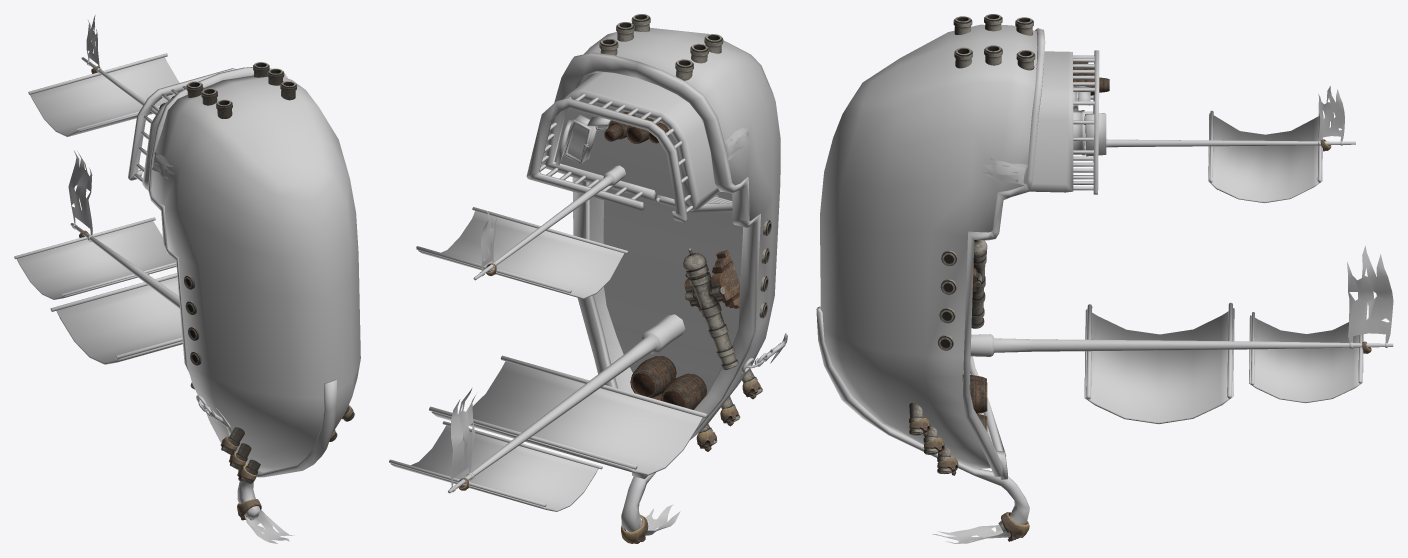
File: stylized_ship(new).fbx
3 renders of one model, left to right at view 1: azimuth 30°, elevation 25°; view 2: azimuth 150°, elevation 25°; view 3: azimuth 270°, elevation 25°, orthographic. The views are drawn at different scales.
Visible parts, largest first — view 1: ship, big_flags, cannon2, flags, ship.001, Skull; view 2: ship, big_flags, ship.001, cannon1, barrels, flags, cannon2, treasure, Skull, wood_stair; view 3: ship, big_flags, flags, cannon2, ship.001, treasure, Skull, cannon1, barrels.
Part boxes in pixels (box(x1,y1,x2,y2)): ship: box(70, 57, 360, 520); big_flags: box(16, 57, 182, 364); cannon2: box(184, 62, 354, 483); flags: box(68, 15, 294, 543); ship.001: box(14, 53, 182, 359); Skull: box(79, 66, 353, 520); ship: box(448, 27, 787, 531); big_flags: box(390, 211, 702, 511); ship.001: box(389, 207, 707, 506); cannon1: box(683, 248, 740, 369); barrels: box(604, 112, 706, 409); flags: box(450, 125, 750, 535); cannon2: box(599, 14, 771, 445); treasure: box(555, 114, 611, 165); Skull: box(458, 263, 760, 543); wood_stair: box(655, 195, 732, 212); ship: box(816, 24, 1393, 532); big_flags: box(1084, 113, 1363, 424); flags: box(932, 86, 1393, 543); cannon2: box(909, 14, 1035, 473); ship.001: box(1086, 110, 1362, 399); treasure: box(1073, 86, 1106, 156); Skull: box(909, 139, 1371, 541); cannon1: box(971, 240, 987, 328); barrels: box(962, 62, 1109, 431).
Bounding box in the file's own units: 536 × 1256 × 1308.
